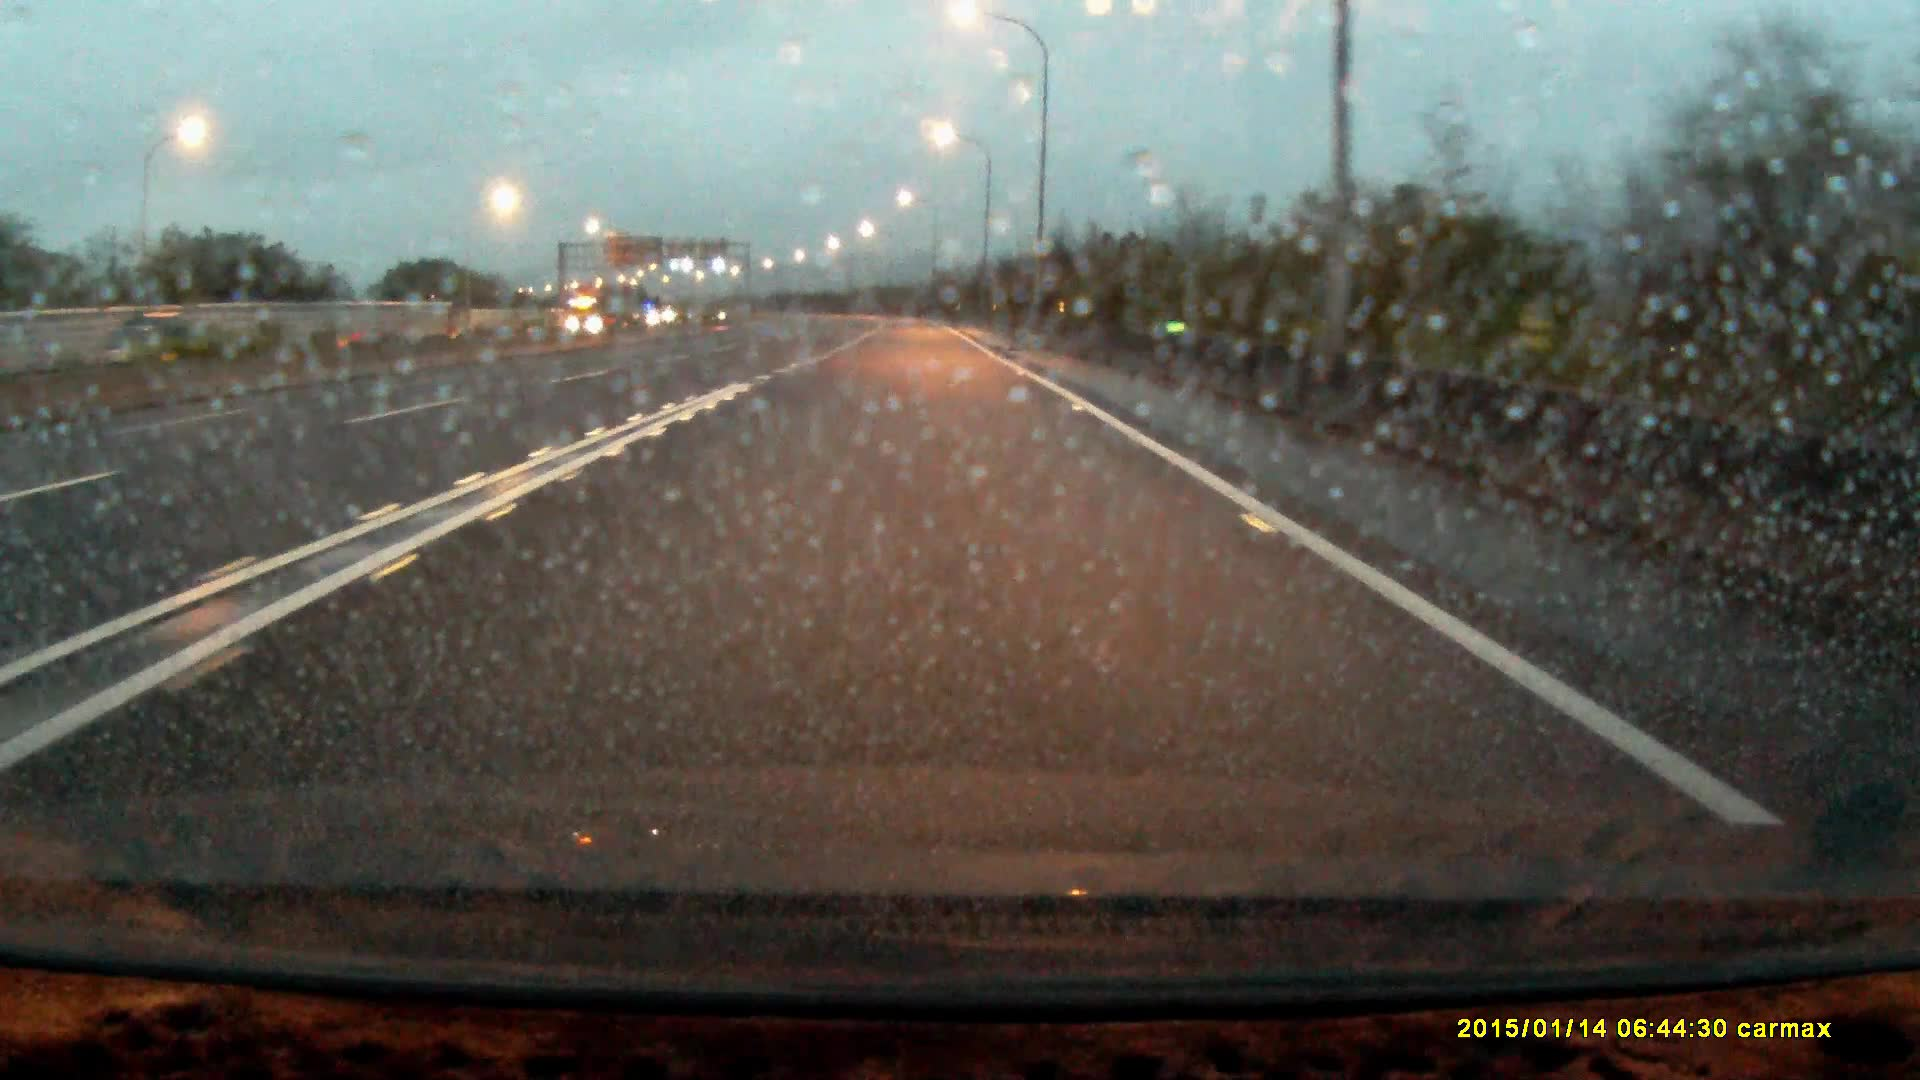vehicle: (564, 295, 615, 344)
